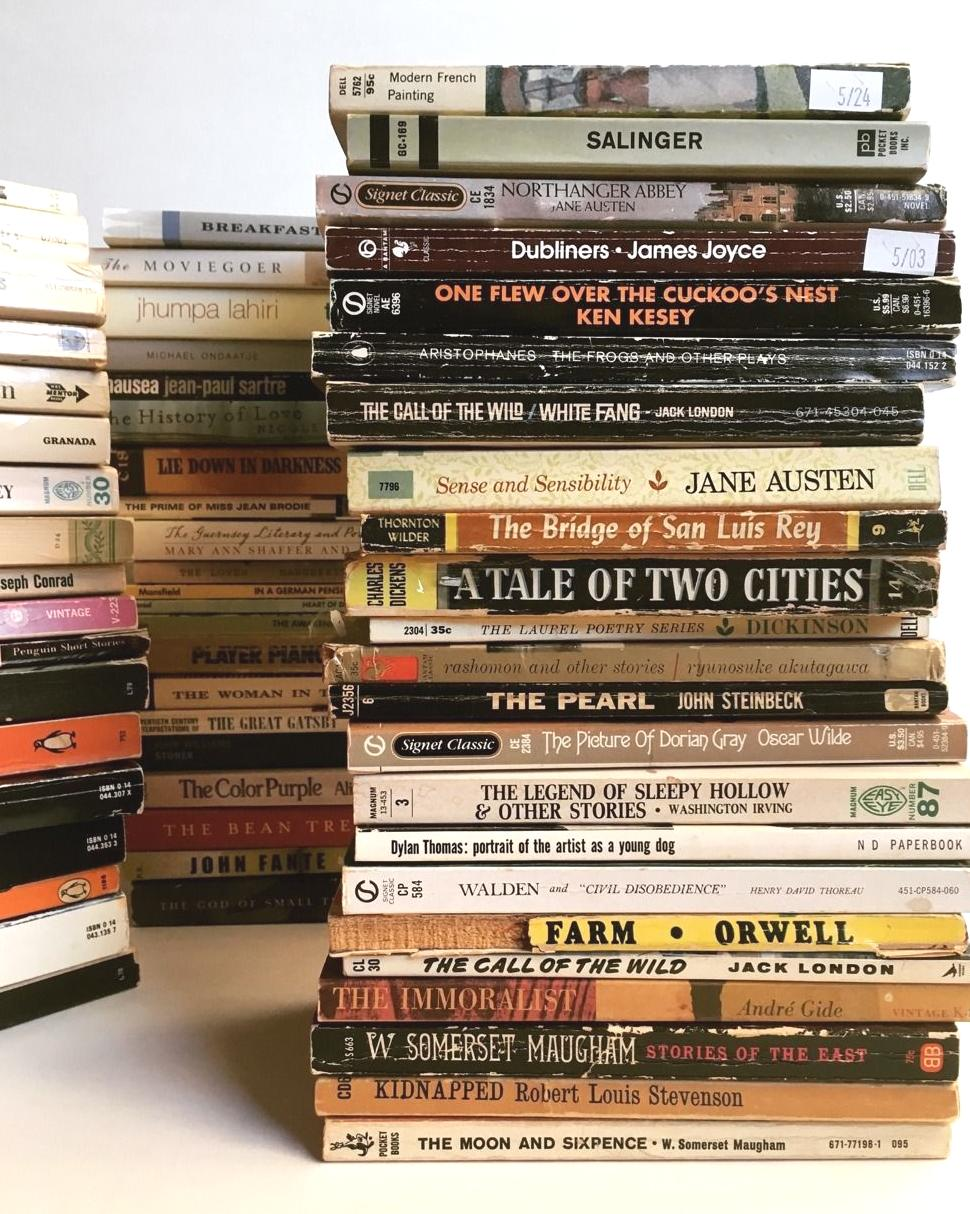book: (319, 375, 941, 446), (334, 447, 941, 513), (337, 850, 970, 913), (341, 758, 970, 821), (334, 713, 962, 776), (339, 114, 919, 177), (339, 551, 941, 611), (319, 1026, 953, 1081), (316, 227, 939, 281), (329, 174, 936, 228), (331, 636, 943, 689), (339, 817, 970, 868), (335, 282, 953, 333), (336, 941, 970, 985), (111, 389, 334, 446), (101, 289, 327, 340), (124, 520, 359, 560), (93, 249, 326, 288), (106, 208, 331, 248), (132, 772, 356, 811), (107, 339, 328, 377), (135, 734, 353, 772), (0, 260, 109, 332), (128, 848, 355, 881), (0, 407, 116, 470), (0, 514, 134, 568), (0, 359, 110, 424), (0, 592, 143, 642), (0, 463, 123, 516), (133, 612, 357, 641), (141, 679, 350, 710), (129, 562, 355, 590)
